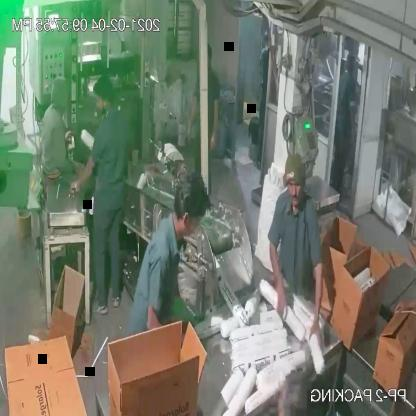no_glove: (266, 233, 294, 327), (306, 242, 327, 354), (64, 143, 98, 200), (178, 78, 204, 146), (206, 94, 224, 152), (389, 294, 416, 320)
